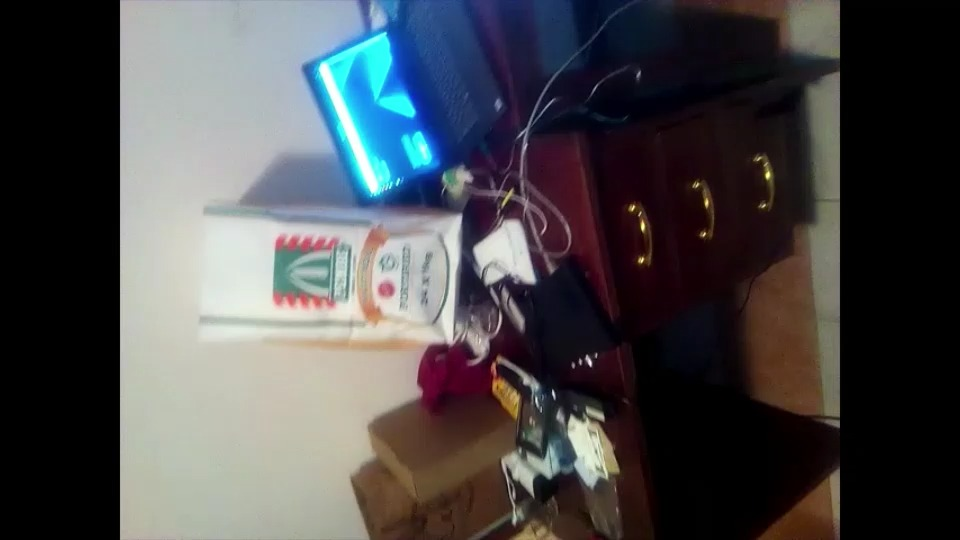maize_flour_green_label: (196, 207, 463, 344)
